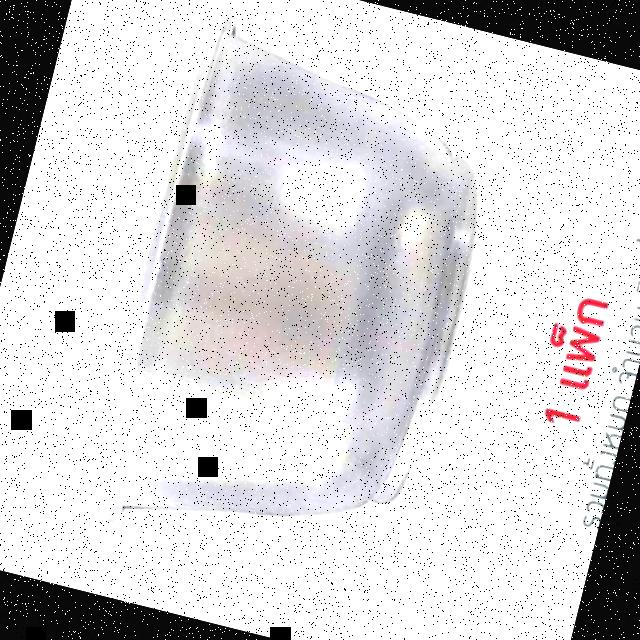plastic_box: (82, 4, 524, 601)
